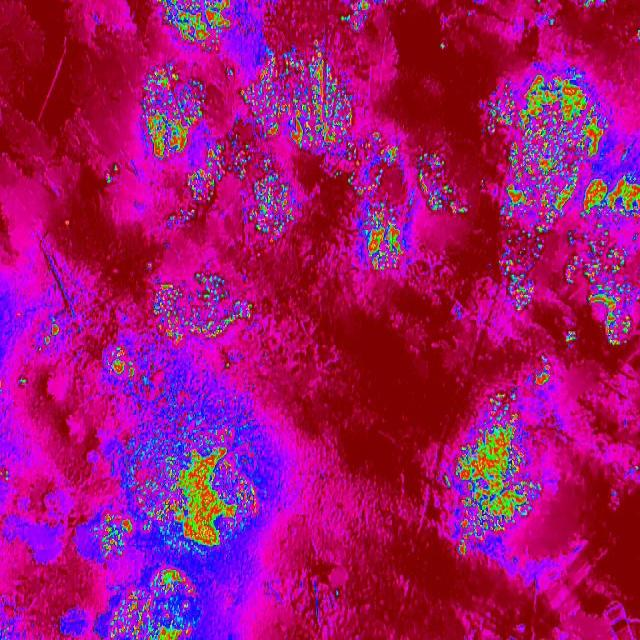fire: (122, 398, 266, 560), (487, 72, 608, 226), (443, 390, 542, 558), (241, 44, 360, 161), (564, 230, 640, 344), (152, 272, 256, 342), (138, 62, 208, 162), (108, 567, 202, 640), (496, 226, 550, 309), (160, 0, 235, 46), (362, 200, 409, 270), (255, 162, 298, 238), (415, 152, 466, 216), (606, 137, 640, 218), (108, 344, 159, 390), (186, 164, 220, 210), (363, 129, 385, 197), (94, 511, 122, 559), (338, 0, 376, 31), (208, 138, 242, 163), (42, 320, 58, 350), (170, 209, 196, 226), (536, 356, 550, 386), (346, 172, 361, 196), (105, 161, 120, 181), (386, 144, 400, 164), (226, 166, 247, 179), (0, 466, 14, 485), (540, 13, 558, 27), (18, 376, 30, 390), (582, 0, 596, 10), (332, 168, 343, 180), (224, 361, 232, 372), (334, 587, 339, 601), (634, 464, 640, 474), (636, 28, 640, 42), (440, 42, 446, 50), (599, 0, 608, 5), (535, 0, 544, 5), (382, 0, 388, 4)
